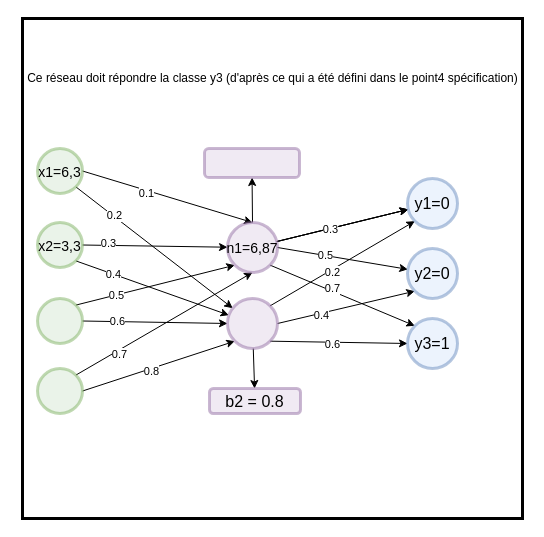
Some shapes in this 544 by 537 pixel diagram are drawn without their labels. The shapes that lost their labels are listed below. From the top down, each one's box as (x1, y1, x2, y2) in pixels, then its label:
(202, 146, 300, 178): b1 = 0.5
(36, 296, 84, 344): x3=6,0
(226, 296, 278, 350): n2=8,98
(36, 366, 84, 414): x4=2,5
